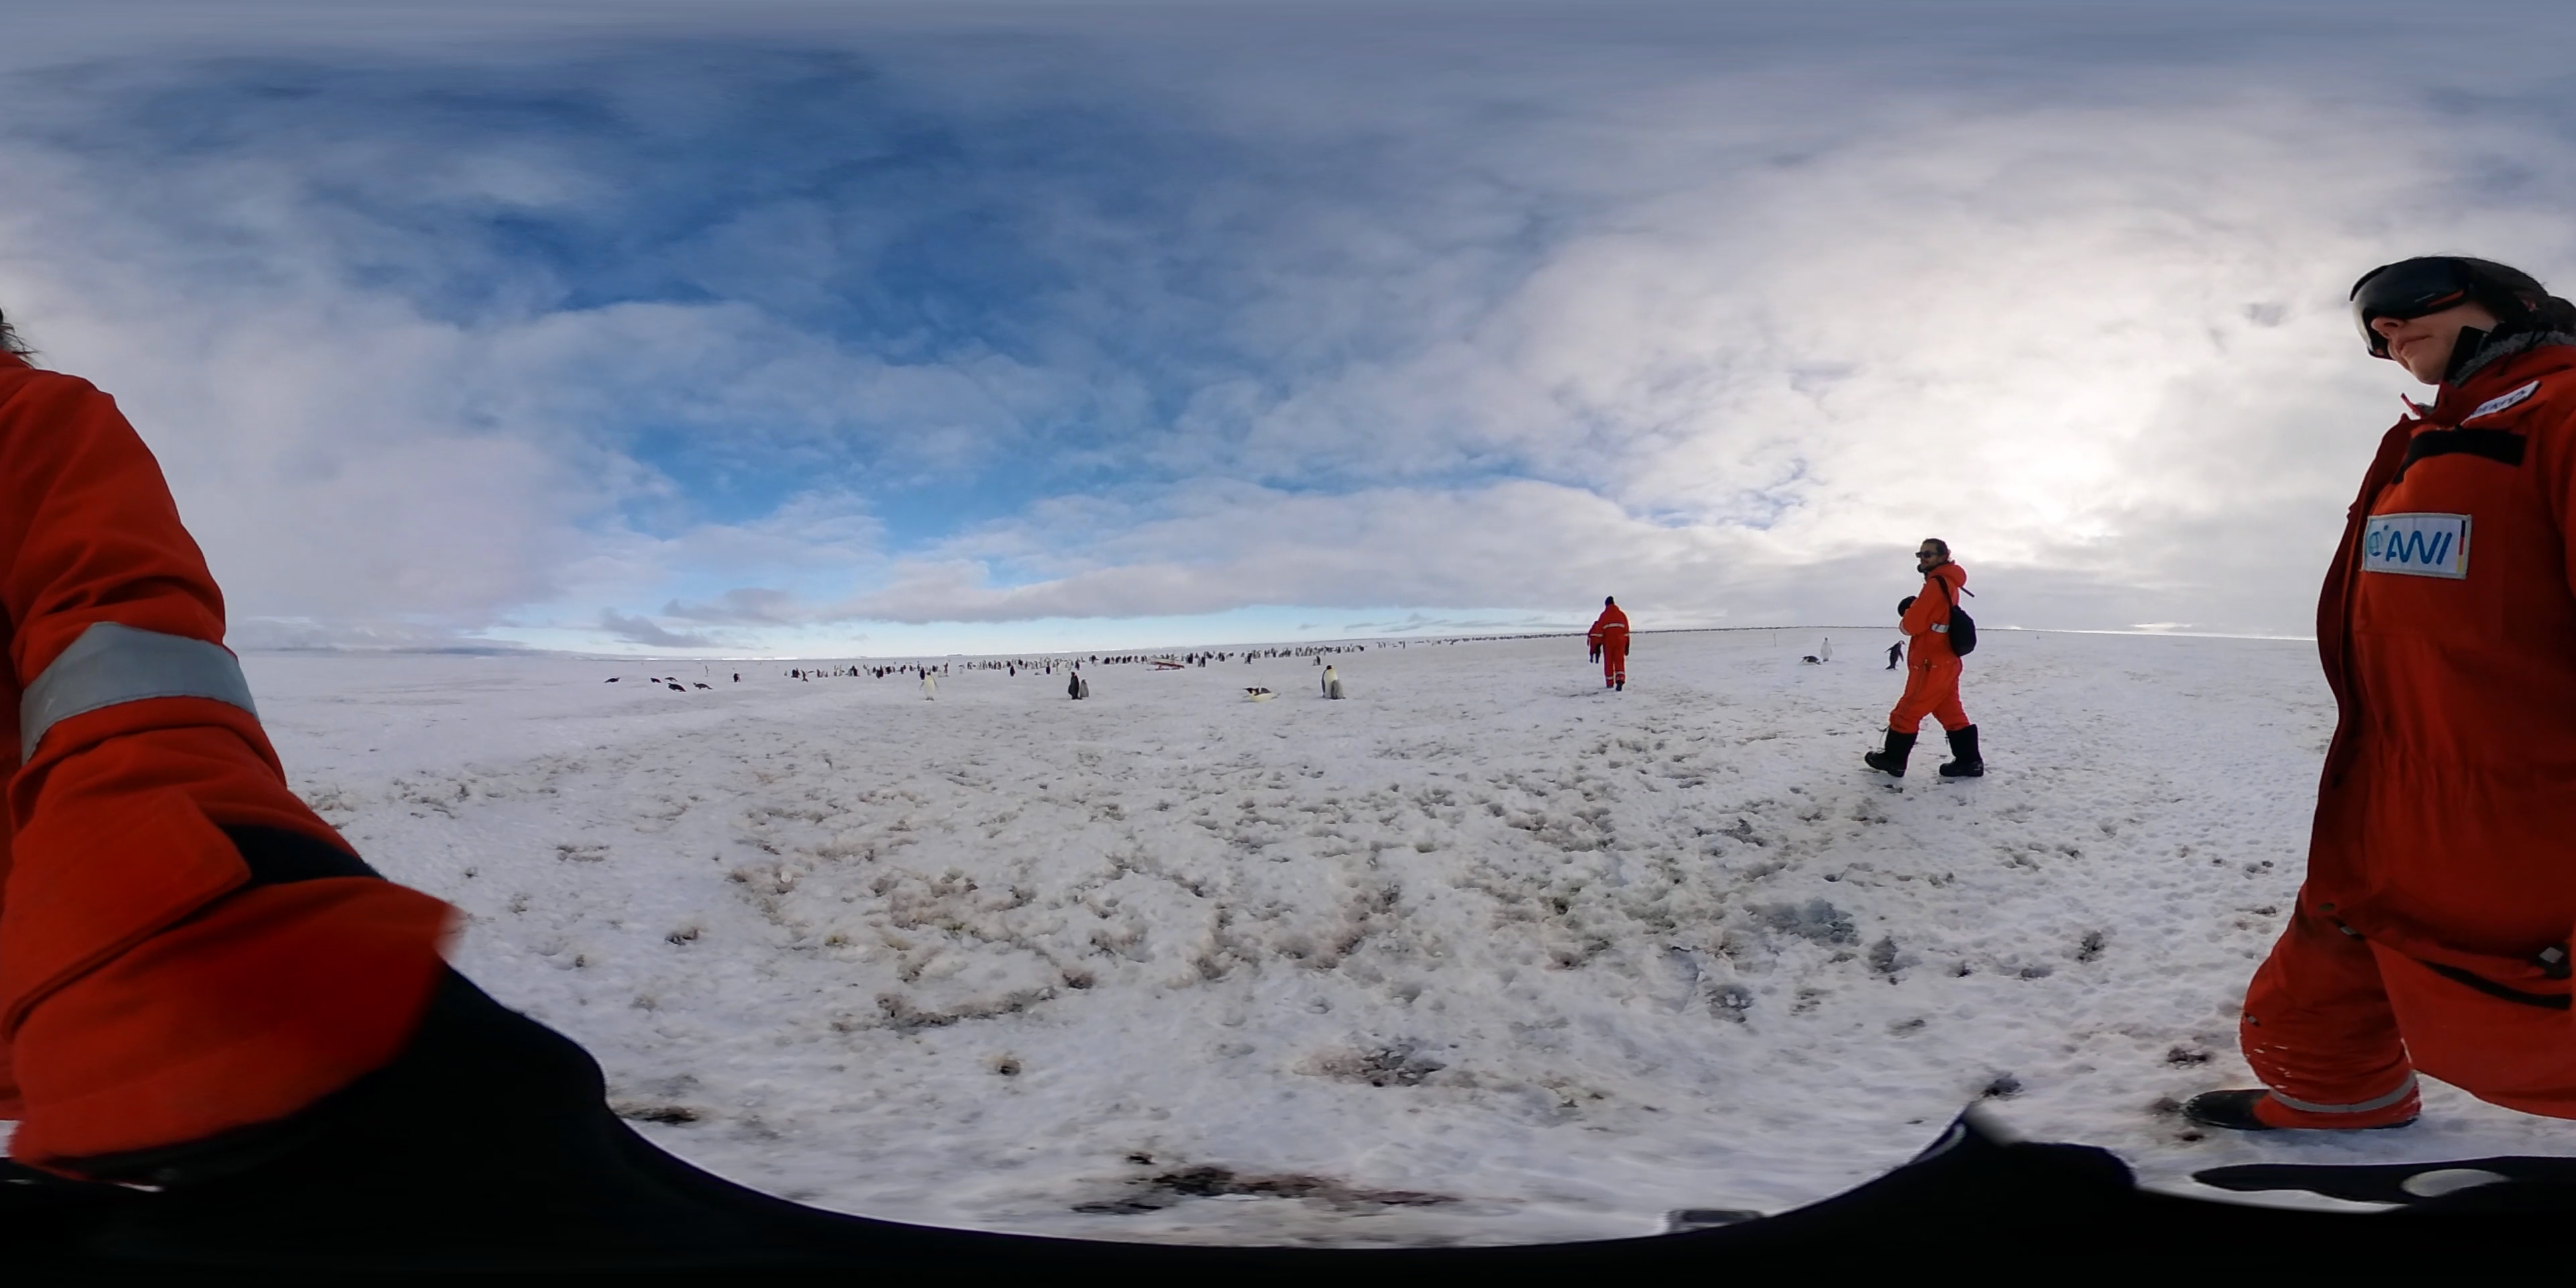adult_standing_penguin: (1881, 637, 1906, 674), (917, 672, 940, 701), (1815, 636, 1835, 664), (1066, 670, 1081, 700), (1321, 665, 1336, 695)
adult_toboggan_penguin: (1235, 683, 1281, 700), (665, 680, 687, 695), (692, 680, 715, 692), (1801, 654, 1820, 665), (601, 675, 623, 683)
juvenile_penguin: (1331, 677, 1349, 703), (1079, 677, 1091, 700)
researcher: (2251, 250, 2576, 1148), (1861, 534, 1993, 787), (1597, 596, 1631, 692), (1584, 618, 1610, 664)
